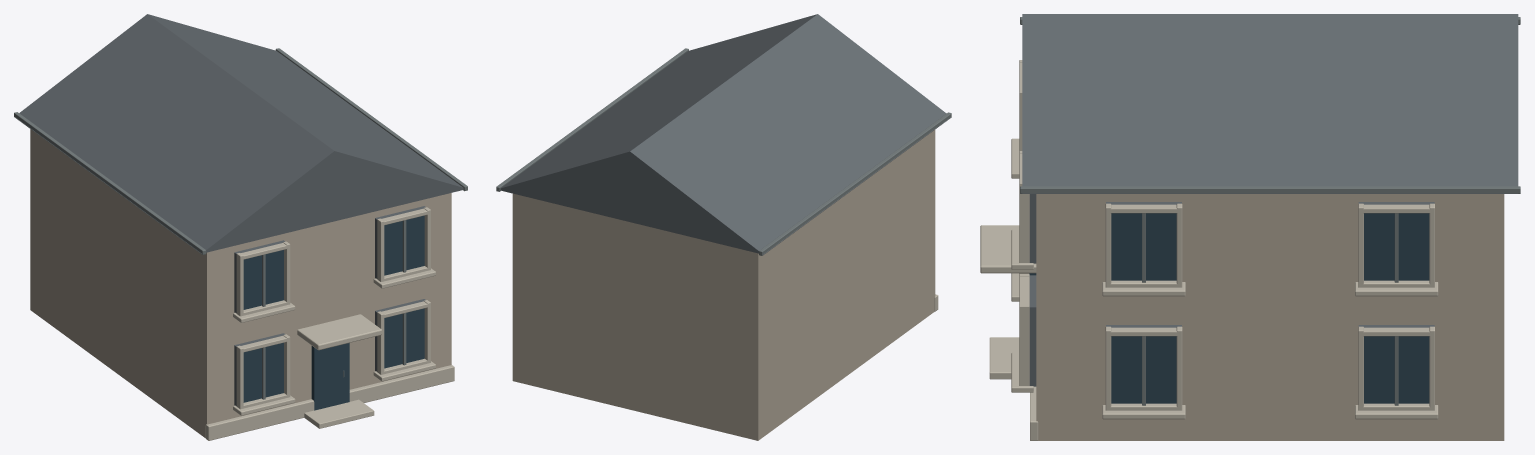
The model's file is detached-house-middle.glb.
3 renders of one model, left to right at view 1: azimuth 30°, elevation 25°; view 2: azimuth 150°, elevation 25°; view 3: azimuth 270°, elevation 25°, orthographic. The views are drawn at different scales.
Visible parts, largest first — view 1: roof, wall, stone, glass, frame; view 2: wall, roof, frame; view 3: roof, wall, stone, glass, frame.
Part boxes in pixels (x1,y1,x2,y2): roof: [14, 14, 463, 405]; wall: [30, 129, 451, 437]; stone: [205, 207, 454, 440]; glass: [243, 215, 424, 410]; frame: [14, 48, 467, 399]; wall: [512, 130, 935, 440]; roof: [500, 14, 950, 254]; frame: [496, 48, 951, 255]; roof: [1022, 14, 1518, 386]; wall: [1036, 194, 1504, 440]; stone: [980, 60, 1438, 440]; glass: [1029, 213, 1429, 403]; frame: [1020, 17, 1520, 405].
Bounding box in the file's own units: 8.89 × 8.2 × 11.55.
